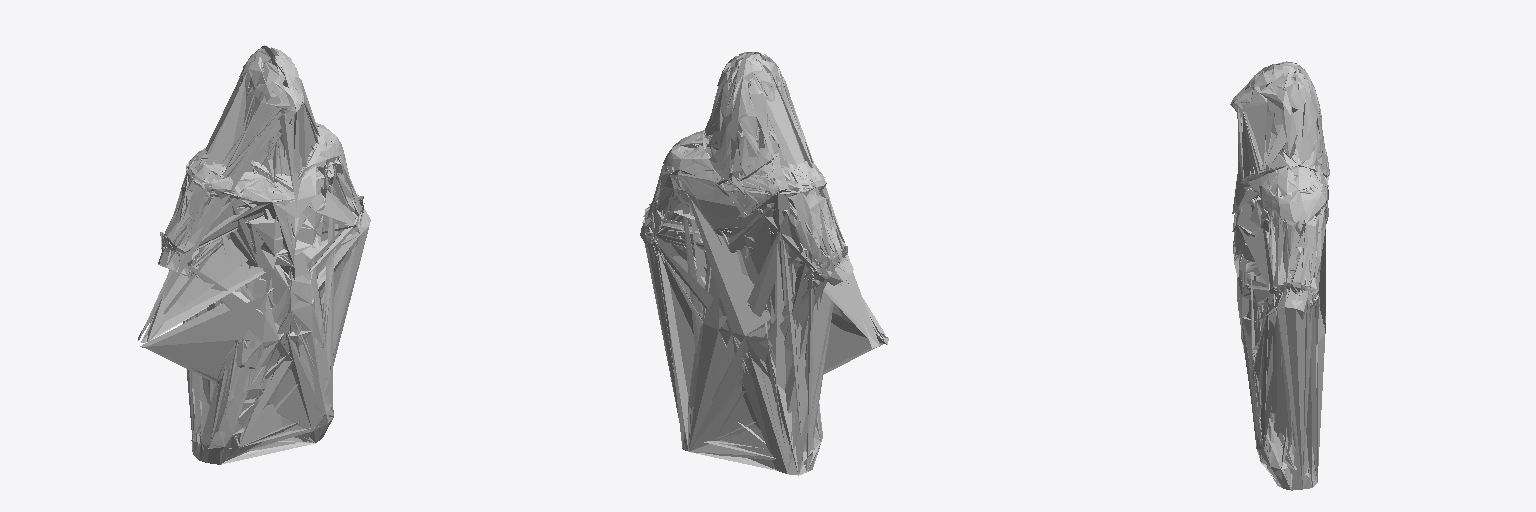
File: ezio.obj
3 renders of one model, left to right at view 1: azimuth 30°, elevation 25°; view 2: azimuth 150°, elevation 25°; view 3: azimuth 270°, elevation 25°, orthographic.
Parts seen in each view (by area): view 1: Model001_2_bracelet_0.5_0_0_foot right_leg right ankle, Model001_8_body_0.1_0_0, Model001_2_hands_0.1_0_0_foot left_leg left ankle, Model001_8_skirt_0.1_0_0, Model001_2_belts_0.1_0_0_root_root ground, Model001_2_head_0.1_0_12_knee right_leg right knee, Model001_2_things_0.6_0_0, Model001_4_bags_0.1_0_0_hand left_arm left wrist, Model001_2_pants_0.1_0_0, Model001_2_mouth_0.3_0_0, Model001_2_boots_0.2_0_0_knee left_leg left knee, Model001_5_gun_0.1_0_0 (+2 smaller); view 2: Model001_2_bracelet_0.5_0_0_foot right_leg right ankle, Model001_8_skirt_0.1_0_0, Model001_2_belts_0.1_0_0_root_root ground, Model001_2_head_0.1_0_12_knee right_leg right knee, Model001_2_hands_0.1_0_0_foot left_leg left ankle, Model001_4_bags_0.1_0_0_hand left_arm left wrist, Model001_8_body_0.1_0_0, Model001_2_things_0.6_0_0, Model001_2_boots_0.2_0_0_knee left_leg left knee, Model001_2_mouth_0.3_0_0, Model001_8_skirt_0.1_0_0.001_body upper_spine upper, Model001_2_pants_0.1_0_0 (+1 smaller); view 3: Model001_2_bracelet_0.5_0_0_foot right_leg right ankle, Model001_2_head_0.1_0_12_knee right_leg right knee, Model001_8_body_0.1_0_0, Model001_2_hands_0.1_0_0_foot left_leg left ankle, Model001_8_skirt_0.1_0_0, Model001_2_belts_0.1_0_0_root_root ground, Model001_2_things_0.6_0_0, Model001_4_bags_0.1_0_0_hand left_arm left wrist, Model001_2_boots_0.2_0_0_knee left_leg left knee, Model001_2_shoulder_0.6_0_0, Model001_2_mouth_0.3_0_0, Model001_5_gun_0.1_0_0.
Boxes of the visible parts, x1,y1,x2,y2 form: Model001_2_bracelet_0.5_0_0_foot right_leg right ankle: [138, 45, 368, 454]; Model001_8_body_0.1_0_0: [160, 46, 359, 460]; Model001_2_hands_0.1_0_0_foot left_leg left ankle: [166, 48, 368, 462]; Model001_8_skirt_0.1_0_0: [166, 54, 368, 449]; Model001_2_belts_0.1_0_0_root_root ground: [159, 47, 368, 453]; Model001_2_head_0.1_0_12_knee right_leg right knee: [158, 126, 367, 462]; Model001_2_things_0.6_0_0: [160, 46, 367, 464]; Model001_4_bags_0.1_0_0_hand left_arm left wrist: [158, 145, 370, 462]; Model001_2_pants_0.1_0_0: [192, 132, 332, 461]; Model001_2_mouth_0.3_0_0: [177, 144, 370, 455]; Model001_2_boots_0.2_0_0_knee left_leg left knee: [158, 125, 343, 459]; Model001_5_gun_0.1_0_0: [159, 125, 369, 449]; Model001_2_bracelet_0.5_0_0_foot right_leg right ankle: [641, 52, 888, 467]; Model001_8_skirt_0.1_0_0: [642, 54, 852, 474]; Model001_2_belts_0.1_0_0_root_root ground: [646, 54, 844, 470]; Model001_2_head_0.1_0_12_knee right_leg right knee: [640, 131, 848, 470]; Model001_2_hands_0.1_0_0_foot left_leg left ankle: [641, 54, 849, 470]; Model001_4_bags_0.1_0_0_hand left_arm left wrist: [640, 130, 832, 472]; Model001_8_body_0.1_0_0: [640, 53, 847, 470]; Model001_2_things_0.6_0_0: [641, 52, 847, 468]; Model001_2_boots_0.2_0_0_knee left_leg left knee: [641, 130, 853, 473]; Model001_2_mouth_0.3_0_0: [647, 134, 824, 450]; Model001_8_skirt_0.1_0_0.001_body upper_spine upper: [719, 298, 798, 475]; Model001_2_pants_0.1_0_0: [747, 350, 822, 474]; Model001_2_bracelet_0.5_0_0_foot right_leg right ankle: [1230, 61, 1329, 489]; Model001_2_head_0.1_0_12_knee right_leg right knee: [1237, 154, 1326, 490]; Model001_8_body_0.1_0_0: [1232, 63, 1329, 485]; Model001_2_hands_0.1_0_0_foot left_leg left ankle: [1232, 64, 1328, 489]; Model001_8_skirt_0.1_0_0: [1233, 71, 1328, 486]; Model001_2_belts_0.1_0_0_root_root ground: [1233, 67, 1328, 488]; Model001_2_things_0.6_0_0: [1235, 62, 1329, 487]; Model001_4_bags_0.1_0_0_hand left_arm left wrist: [1233, 166, 1325, 480]; Model001_2_boots_0.2_0_0_knee left_leg left knee: [1234, 168, 1325, 488]; Model001_2_shoulder_0.6_0_0: [1238, 215, 1318, 487]; Model001_2_mouth_0.3_0_0: [1237, 166, 1326, 489]; Model001_5_gun_0.1_0_0: [1235, 164, 1326, 485].
Size of the model in its own units: 0.8606 by 1.4 by 0.3138.